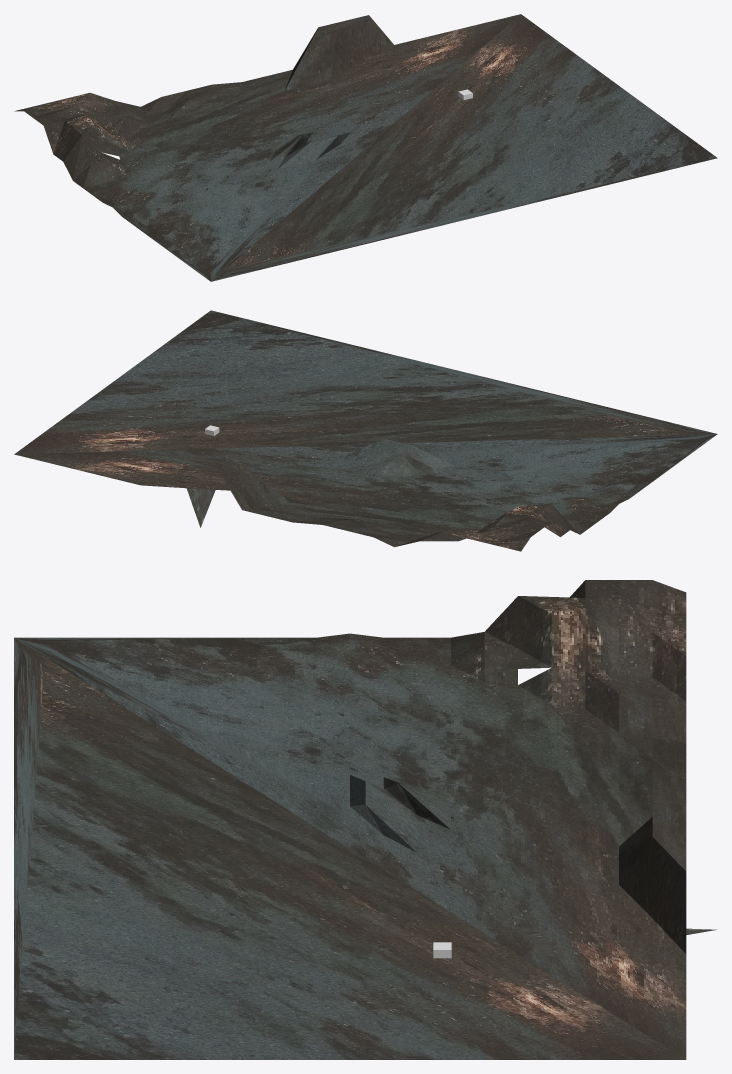
The model's file is map.glb.
3 views of the same model, one above another, from view 1: azimuth 30°, elevation 25°; view 2: azimuth 150°, elevation 25°; view 3: azimuth 270°, elevation 25° (orthographic). The views are drawn at different scales.
Visible parts, largest first — view 1: Object 6590; view 2: Object 6590; view 3: Object 6590.
Part boxes in pixels (x1=…): Object 6590: x1=14, y1=14, x2=717, y2=281; Object 6590: x1=14, y1=310, x2=717, y2=551; Object 6590: x1=14, y1=580, x2=716, y2=1059.
Bounding box in the file's own units: 110 × 11.5 × 77.5.
2 materials, 1 textured.
